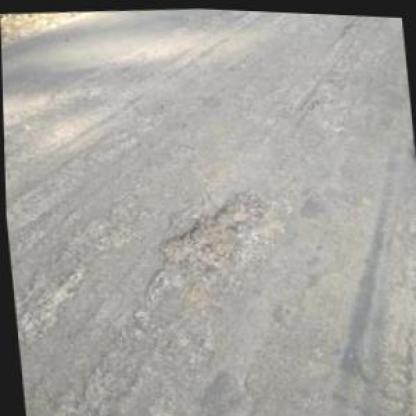pothole: (151, 194, 258, 275)
